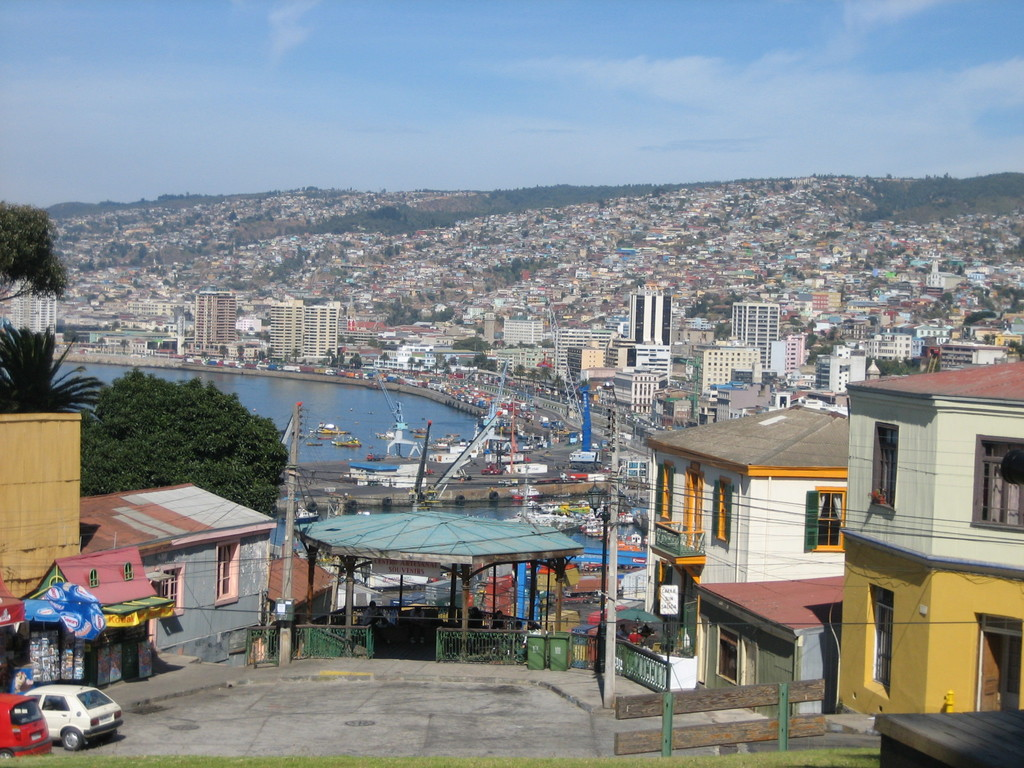cars: (22, 680, 128, 753), (0, 692, 53, 759)
